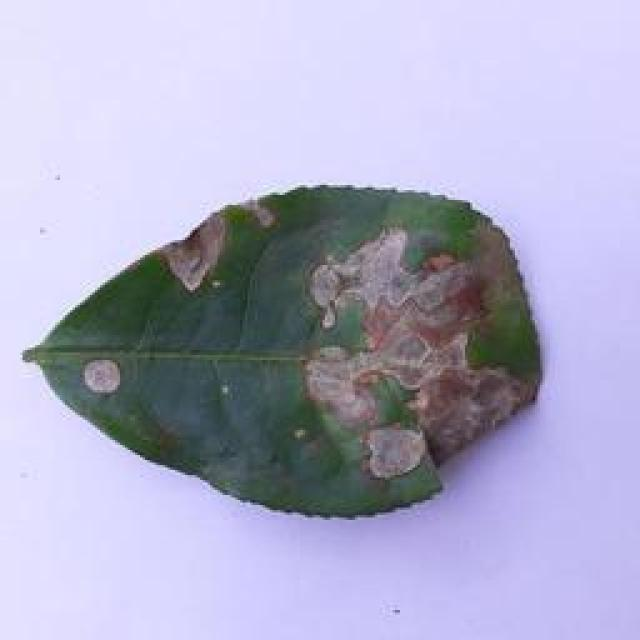Gray Blight: (24, 180, 542, 522)
